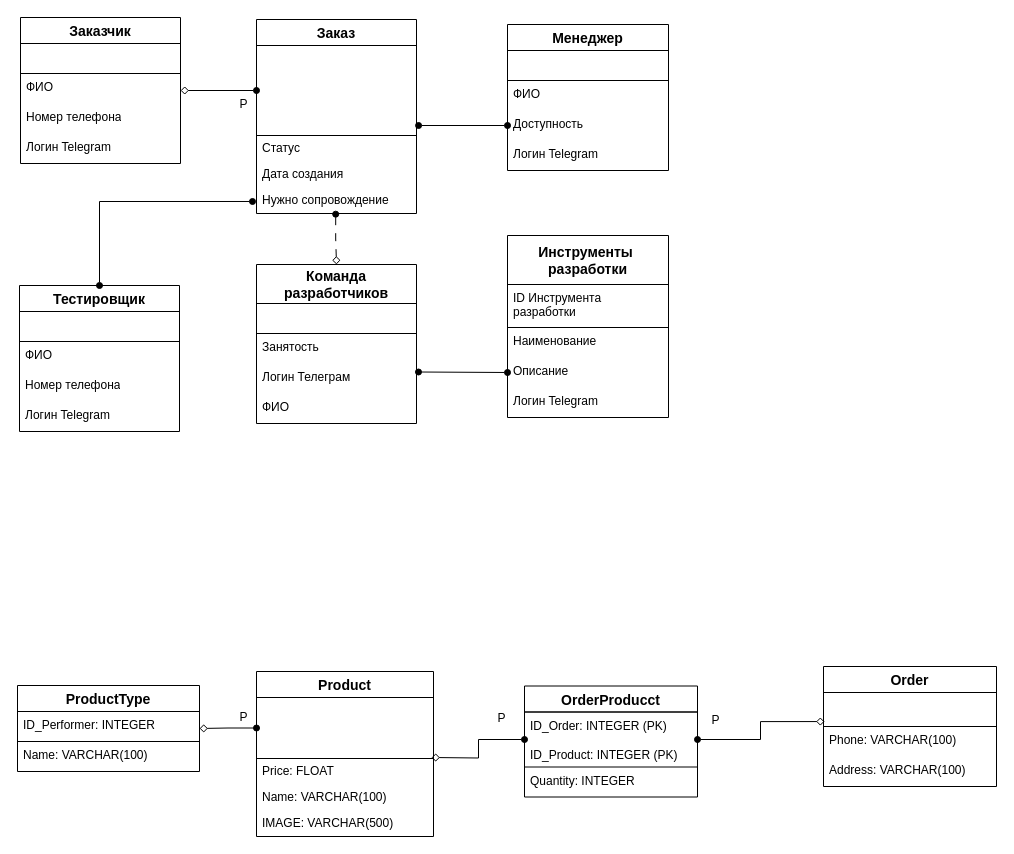
This 1014x854 diagram has some shape labels left out. The shapes that lost their labels are listed below. From the top down, each one's centre as x and y in pixels, then its label:
(100,58): ID заказчика
(587,65): ID Менеджера
(336,90): ID заказа ID заказчика (FK) ID тестировщика (FK)
(99,326): ID тестировщика
(336,318): ID Разработчика
(345,727): ID_Product: INTEGER ID_ProductType: INTEGER (FK)
(909,709): ID_Order: INTEGER
